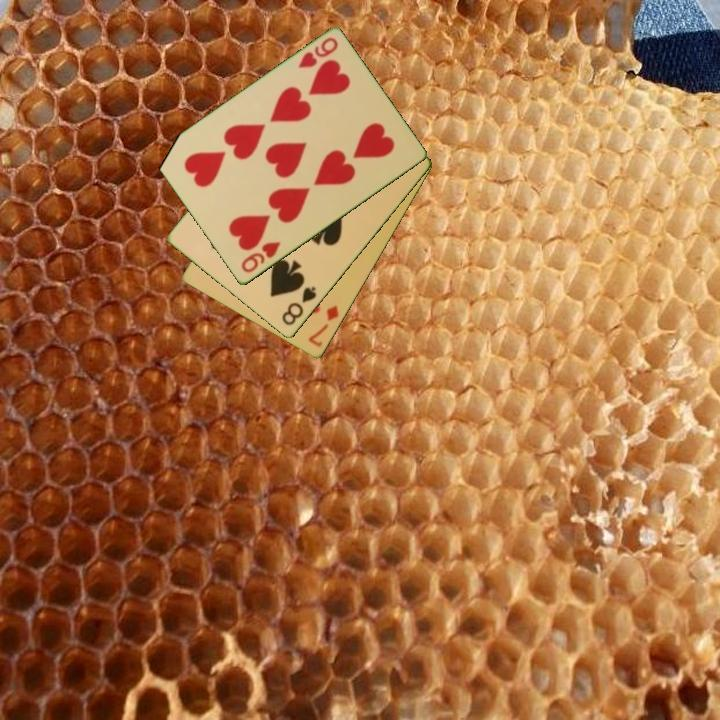7d: (305, 302, 342, 350)
8s: (278, 283, 320, 329)
9h: (237, 238, 284, 276), (295, 34, 341, 71)
